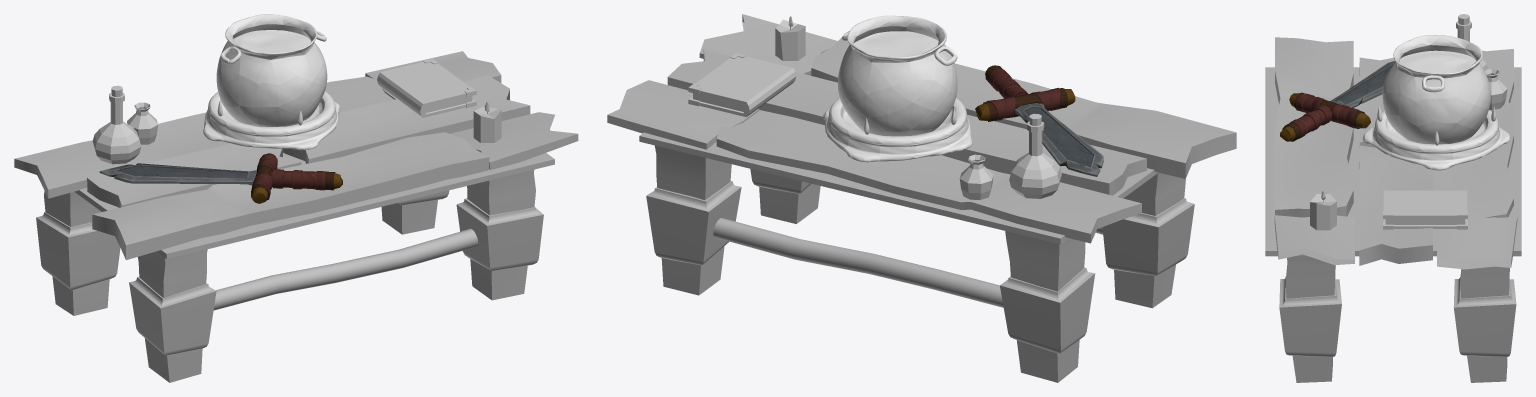
Rendered from PowerCraft.fbx.
3 views of the same model, side by side, from view 1: azimuth 30°, elevation 25°; view 2: azimuth 150°, elevation 25°; view 3: azimuth 270°, elevation 25° (orthographic). The views are drawn at different scales.
Parts seen in each view (by area): view 1: LEg6, LEg6.001, Pot_01, sword, Book_09, Bottle_05, Candle_01, Jug_02; view 2: LEg6, LEg6.001, Pot_01, sword, Book_09, Bottle_05, Candle_01, Jug_02; view 3: LEg6, Pot_01, LEg6.001, sword, Book_09, Candle_01, Jug_02, Bottle_05.
Part boxes in pixels (<box>): LEg6: <box>14,51,578,382</box>; LEg6.001: <box>36,190,543,355</box>; Pot_01: <box>203,14,340,150</box>; sword: <box>99,153,342,203</box>; Book_09: <box>377,58,476,117</box>; Bottle_05: <box>92,85,141,164</box>; Candle_01: <box>473,102,501,142</box>; Jug_02: <box>127,102,158,144</box>; LEg6: <box>607,14,1236,382</box>; LEg6.001: <box>646,169,1194,353</box>; Pot_01: <box>823,15,972,162</box>; sword: <box>975,65,1103,176</box>; Book_09: <box>688,53,796,117</box>; Bottle_05: <box>1009,113,1061,198</box>; Candle_01: <box>775,16,805,60</box>; Jug_02: <box>959,154,993,199</box>; LEg6: <box>1265,37,1521,382</box>; Pot_01: <box>1363,35,1510,170</box>; LEg6.001: <box>1279,275,1516,357</box>; sword: <box>1280,61,1395,141</box>; Book_09: <box>1383,190,1467,229</box>; Candle_01: <box>1310,189,1336,230</box>; Jug_02: <box>1485,69,1507,110</box>; Bottle_05: <box>1456,14,1487,70</box>.
Size of the model in its own units: 332 by 172 by 163.
